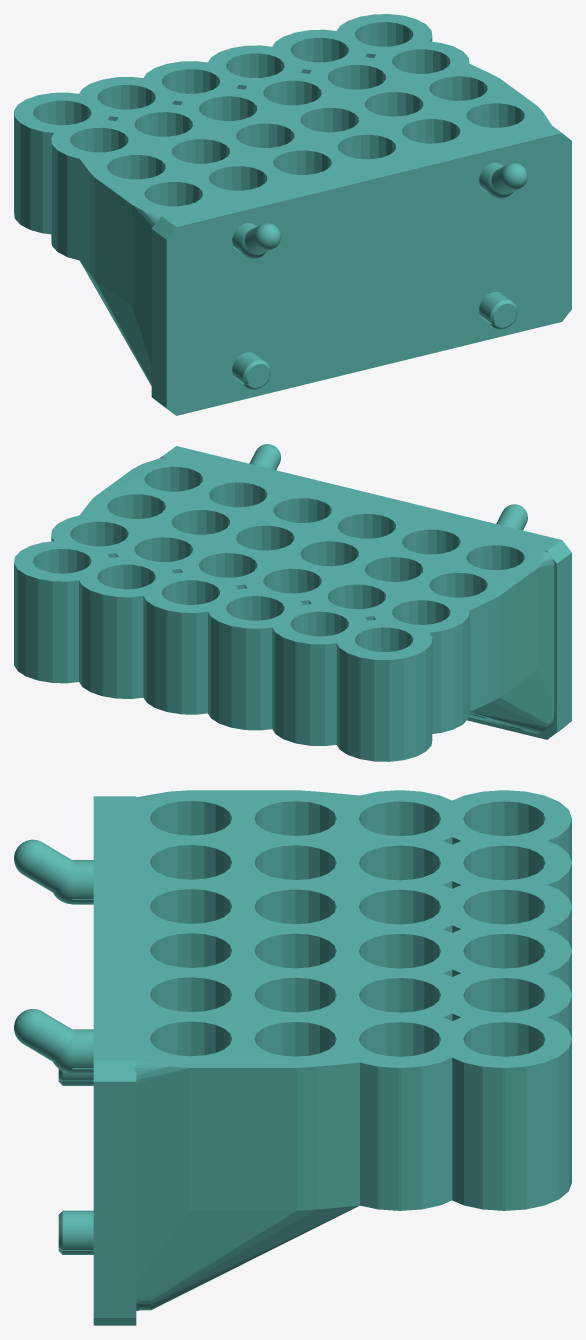
The picture shows the model from 3 angles, top to bottom: view 1: azimuth 30°, elevation 25°; view 2: azimuth 150°, elevation 25°; view 3: azimuth 270°, elevation 25°; orthographic projection. The views are drawn at different scales.
Parts seen in each view (by area): view 1: Actual holder mesh; view 2: Actual holder mesh; view 3: Actual holder mesh.
Part boxes in pixels (box(x1,y1,x2,y2)): Actual holder mesh: box(14, 14, 571, 415); Actual holder mesh: box(14, 444, 571, 761); Actual holder mesh: box(14, 790, 571, 1325).
Bounding box in the file's own units: 0.0834 × 0.0374 × 0.0708.
